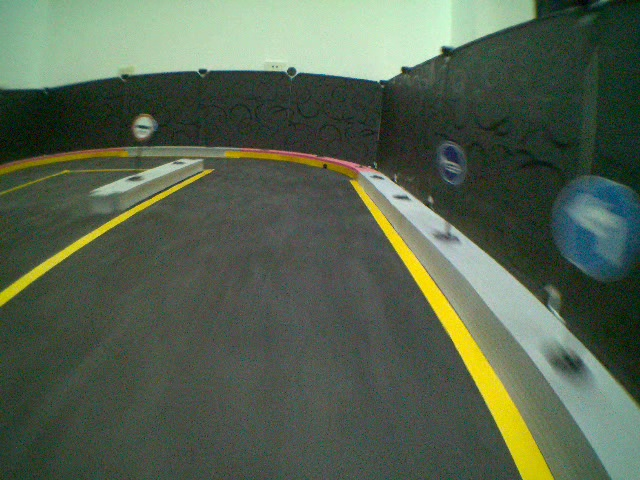Check: (128, 111, 161, 141)
horn: (424, 141, 479, 190)
turn: (550, 173, 640, 284)
